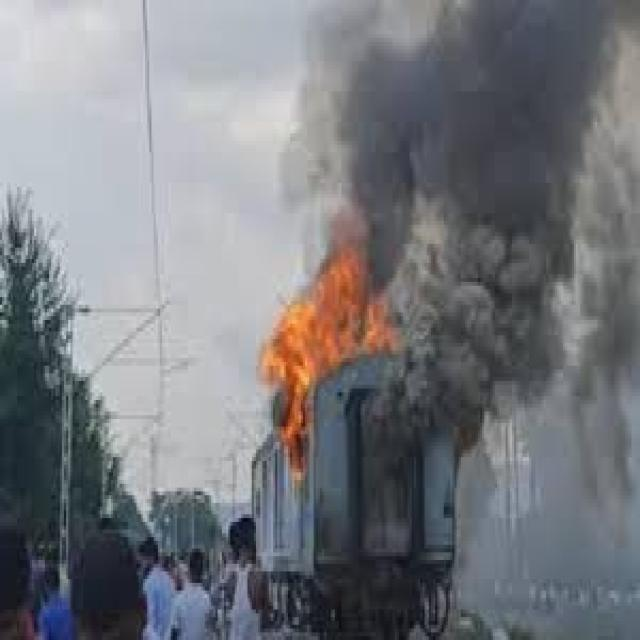Fire: (263, 298, 315, 478), (308, 248, 392, 352)
Smoke: (394, 0, 640, 449), (465, 446, 640, 636), (312, 1, 396, 250)
